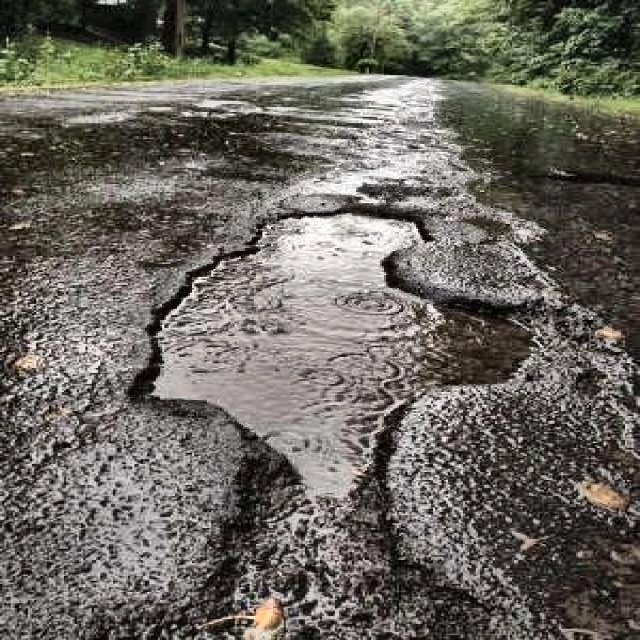Pothole: (120, 200, 540, 493)
